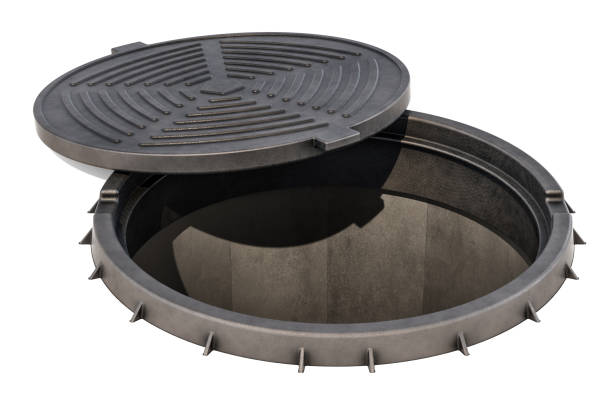open_manhole: (103, 158, 542, 314)
